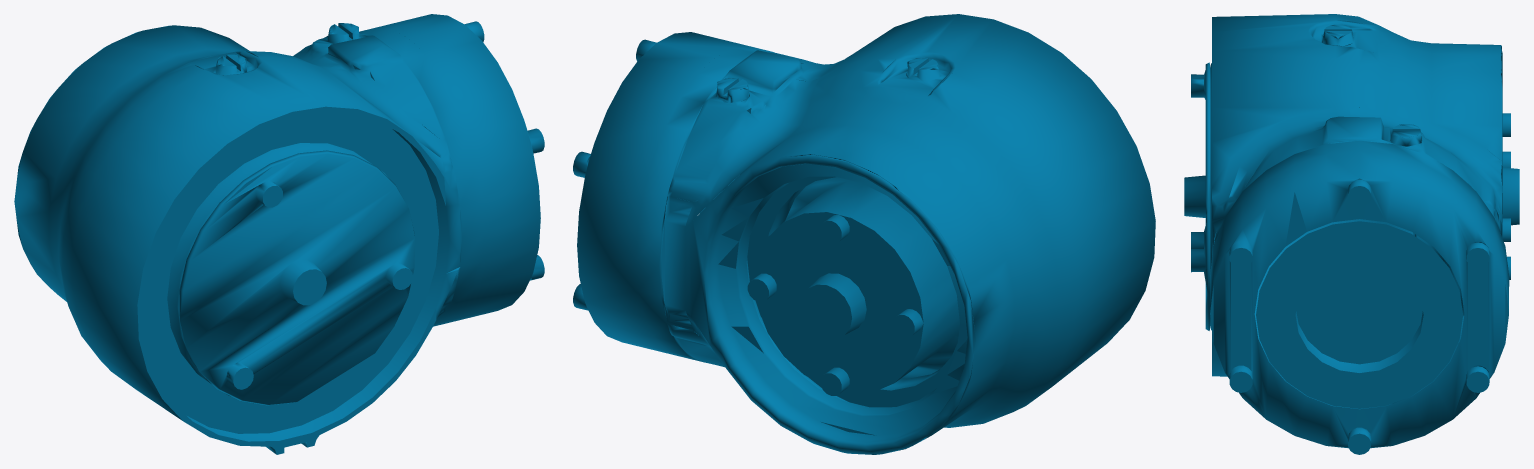
The picture shows the model from 3 angles, left to right: view 1: azimuth 30°, elevation 25°; view 2: azimuth 150°, elevation 25°; view 3: azimuth 270°, elevation 25°; orthographic projection. The views are drawn at different scales.
Visible parts, largest first — view 1: link_5; view 2: link_5; view 3: link_5.
Part boxes in pixels (left/top/right/bottom): link_5: left=14, top=14, right=544, bottom=454; link_5: left=573, top=14, right=1155, bottom=454; link_5: left=1184, top=14, right=1519, bottom=454.
Size of the model in its own units: 0.1112 by 0.0785 by 0.087.
